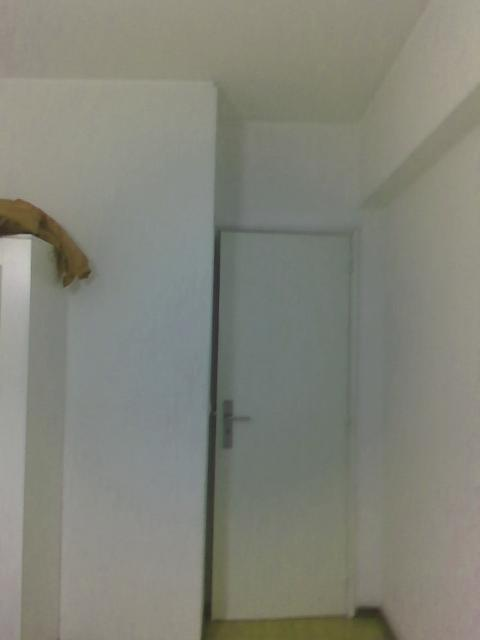closed_door: (209, 227, 361, 636)
